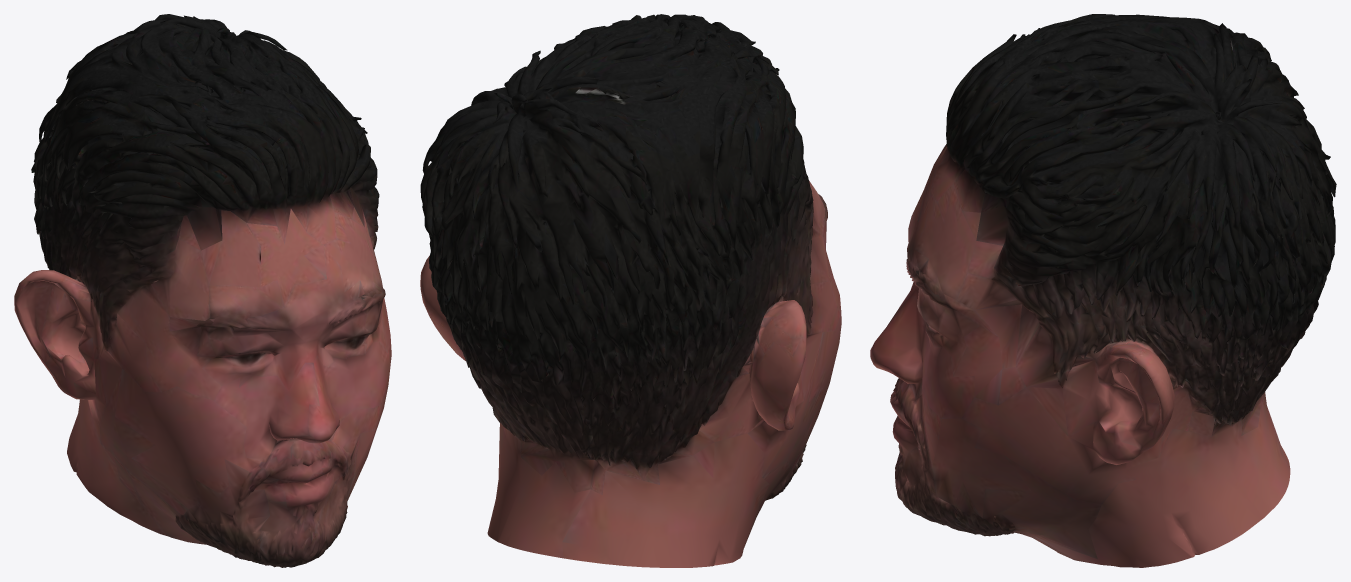
Rendered from head_sheldon.glb.
3 views of the same model, side by side, from view 1: azimuth 30°, elevation 25°; view 2: azimuth 150°, elevation 25°; view 3: azimuth 270°, elevation 25° (orthographic). The views are drawn at different scales.
Visible parts, largest first — view 1: Mesh_0; view 2: Mesh_0; view 3: Mesh_0.
Boxes of the visible parts, x1,y1,x2,y2 form: Mesh_0: (14, 14, 391, 567); Mesh_0: (420, 14, 841, 567); Mesh_0: (870, 14, 1336, 567).
Bounding box in the file's own units: 1.11 × 1.41 × 1.18.
Materials: 1 (1 with a texture image).
